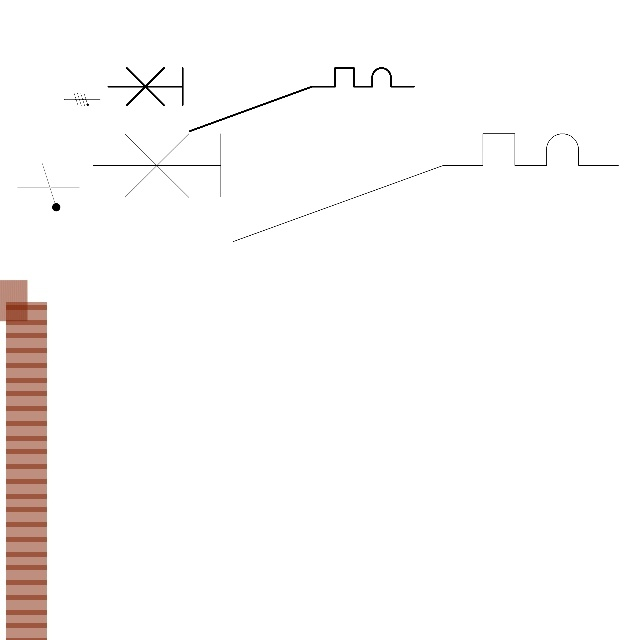interruptor_termomagnetico: (79, 120, 631, 255), (100, 60, 422, 138)
